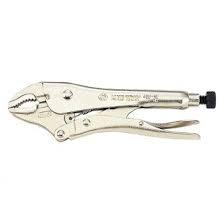pliers: (6, 80, 216, 142)
